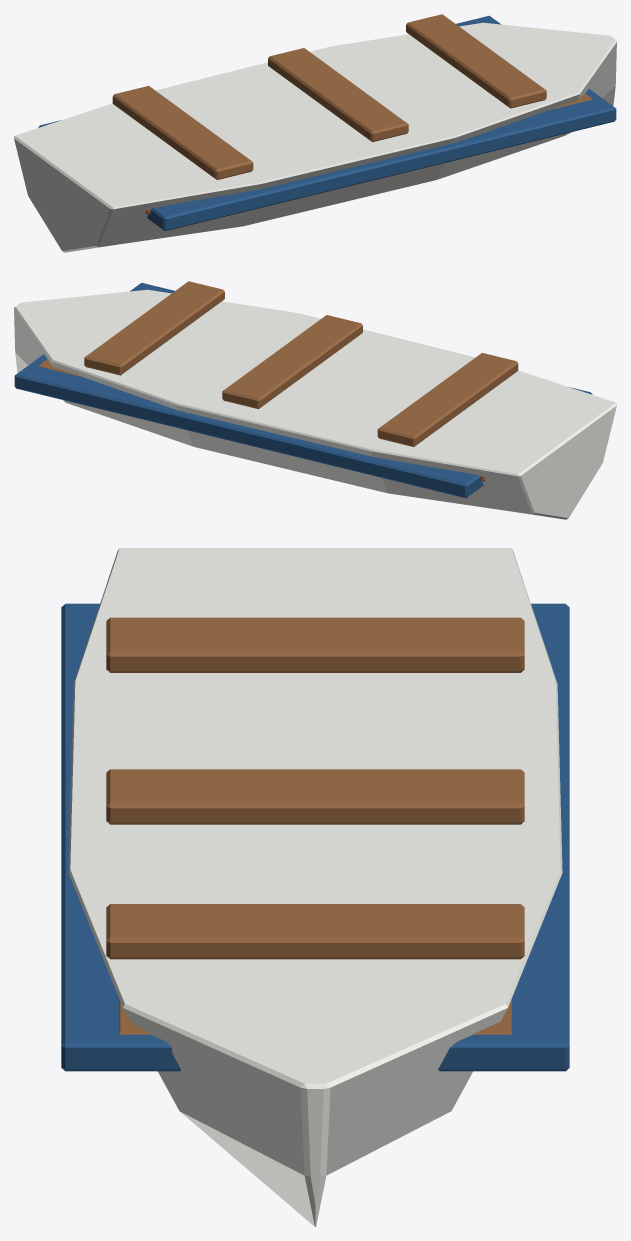
File: roddbat.glb
3 views of the same model, one above another, from view 1: azimuth 30°, elevation 25°; view 2: azimuth 150°, elevation 25°; view 3: azimuth 270°, elevation 25° (orthographic). The views are drawn at different scales.
Parts seen in each view (by area): view 1: roddbat; view 2: roddbat; view 3: roddbat.
Boxes of the visible parts, x1=… form: roddbat: x1=14, y1=14, x2=616, y2=252; roddbat: x1=14, y1=281, x2=616, y2=519; roddbat: x1=61, y1=548, x2=569, y2=1226.
Bounding box in the file's own units: 3.2 × 0.5958 × 1.27.
